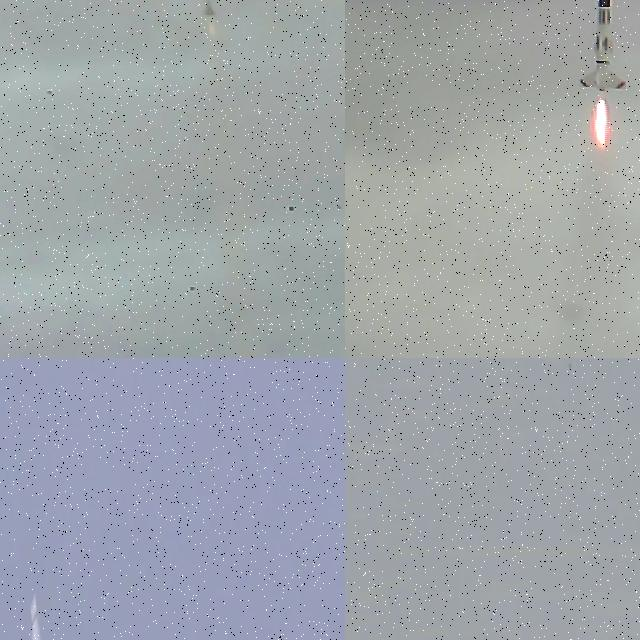Rocket: (578, 0, 628, 92), (30, 593, 40, 632), (197, 0, 216, 16), (569, 361, 572, 369)
